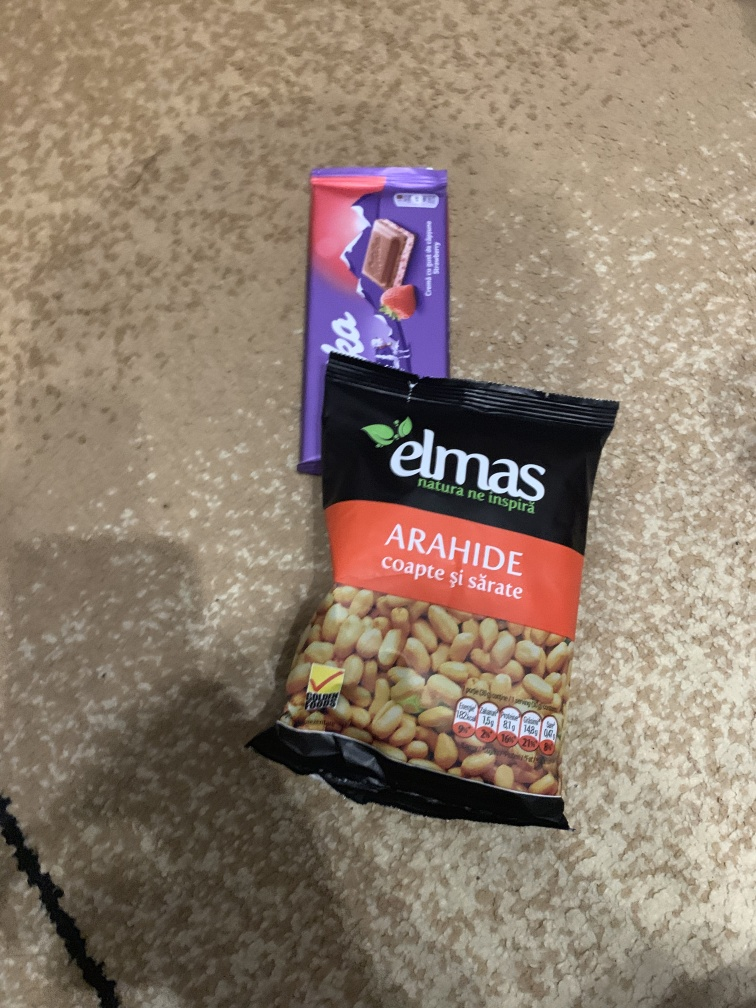milka: (296, 165, 461, 477)
peanuts: (250, 354, 631, 853)
